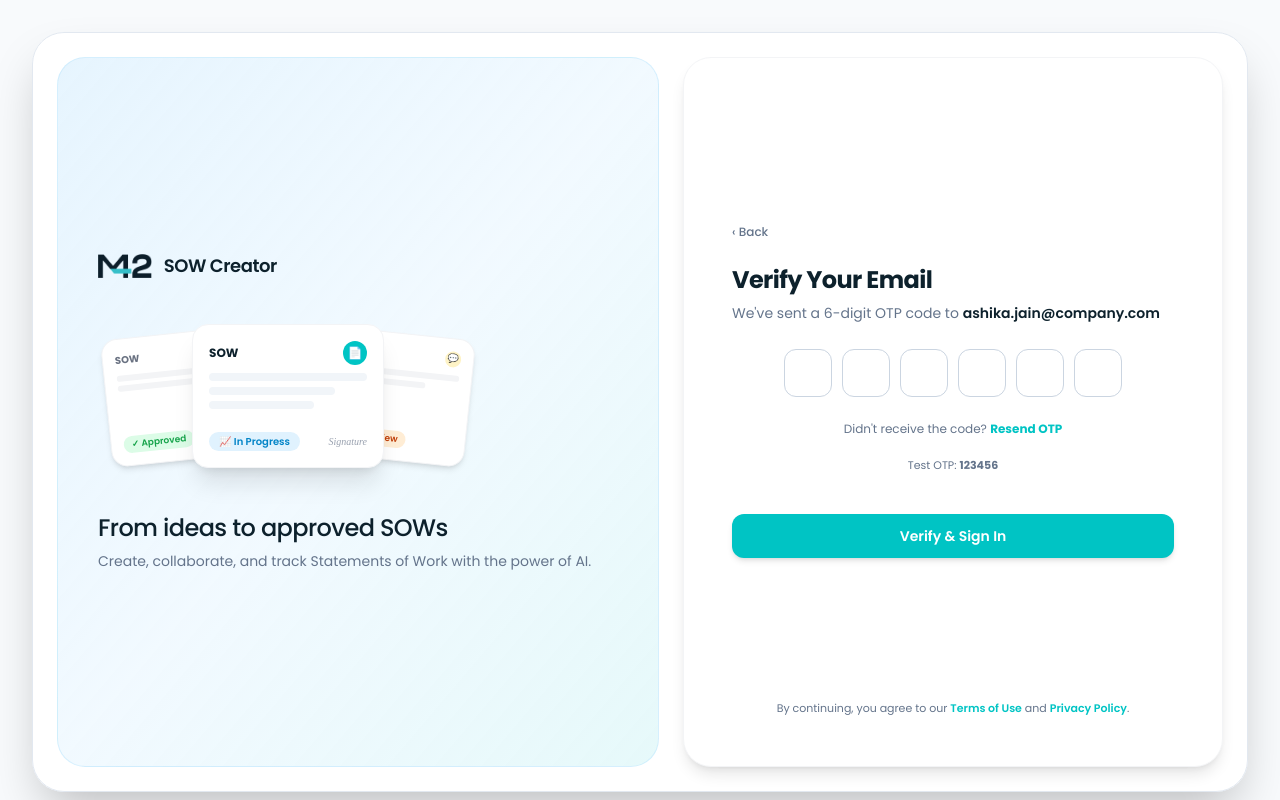
LoginScreen Organism › shows error when incorrect OTP code is entered
Type "9" into the field with test id "otp-input-0" at (808, 373), box [784, 349, 832, 397]
Type "9" into the field with test id "otp-input-1" at (866, 373), box [842, 349, 890, 397]
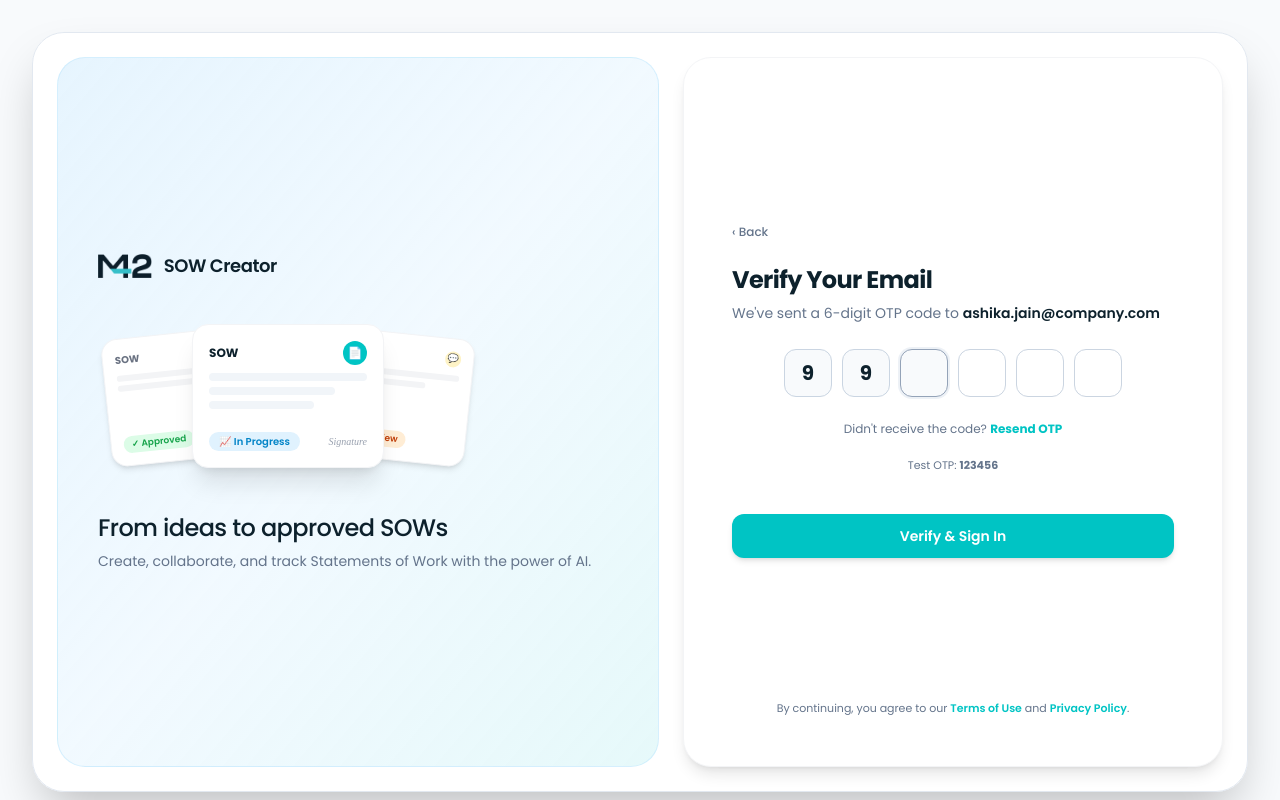
Type "9" into the field with test id "otp-input-2" at (924, 373), box [900, 349, 948, 397]
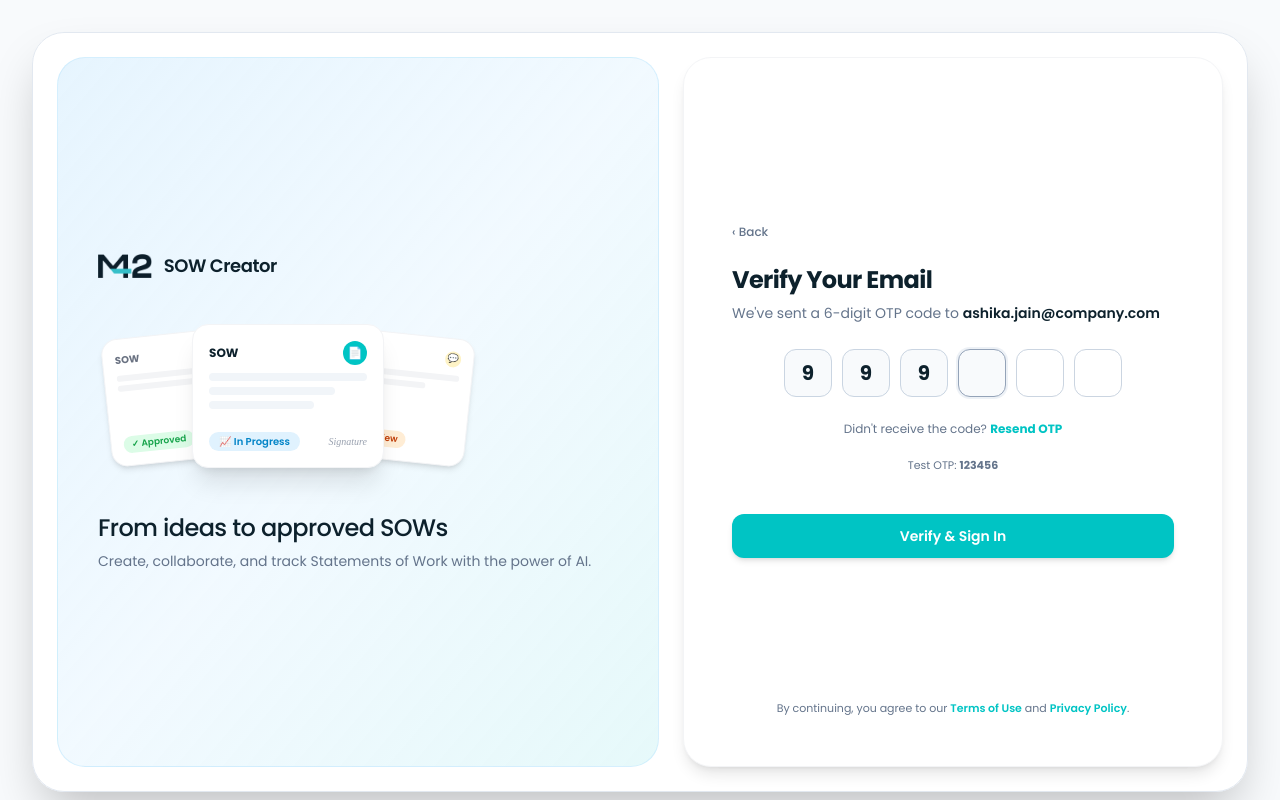
Type "9" into the field with test id "otp-input-3" at (982, 373), box [958, 349, 1006, 397]
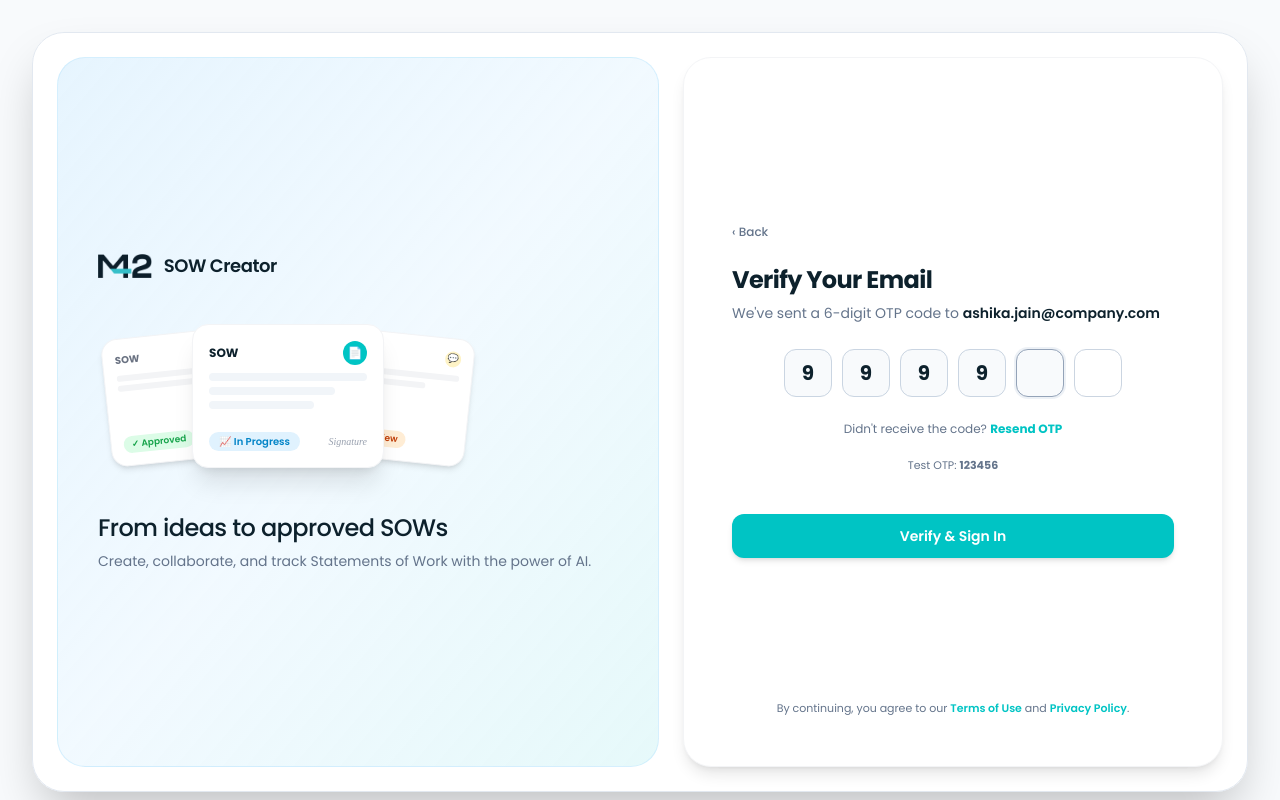
Type "9" into the field with test id "otp-input-4" at (1040, 373), box [1016, 349, 1064, 397]
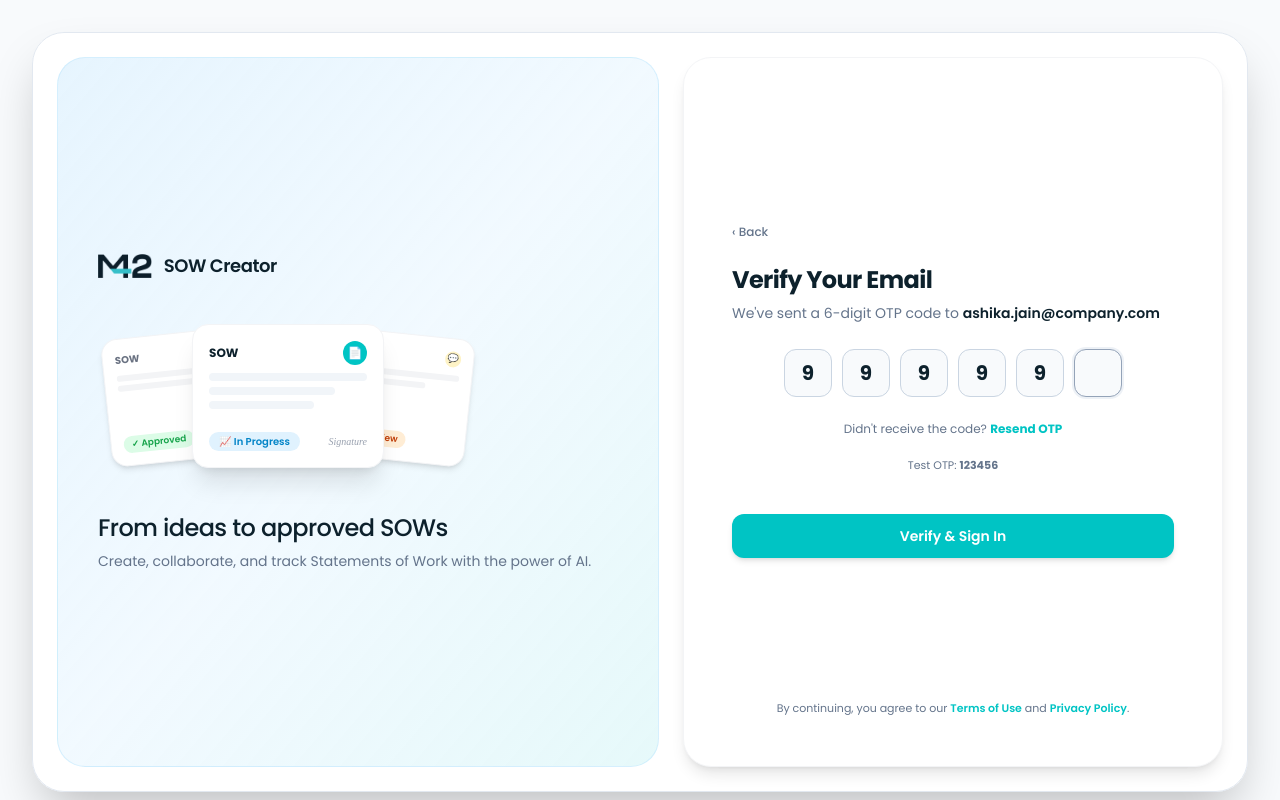
Type "9" into the field with test id "otp-input-5" at (1098, 373), box [1074, 349, 1122, 397]
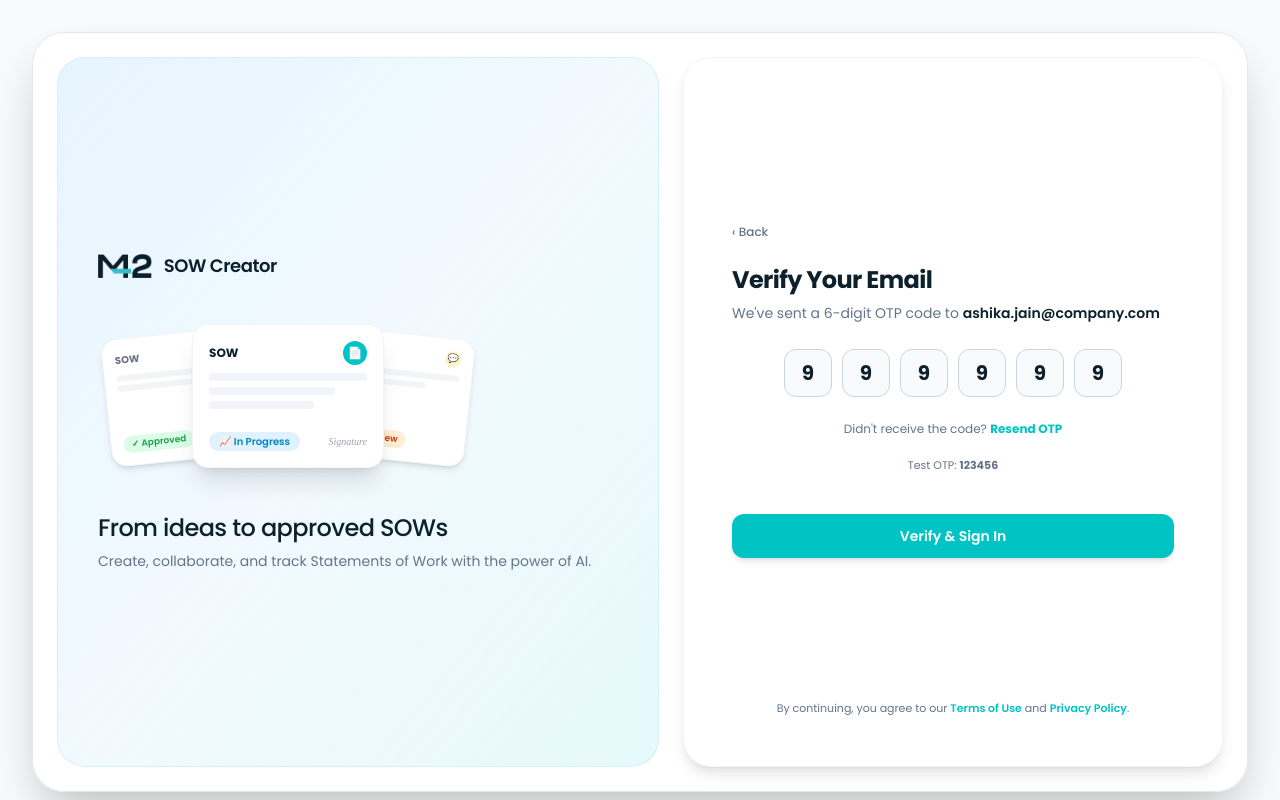
Click the button "Verify & Sign In" at (953, 536), box [732, 514, 1174, 558]
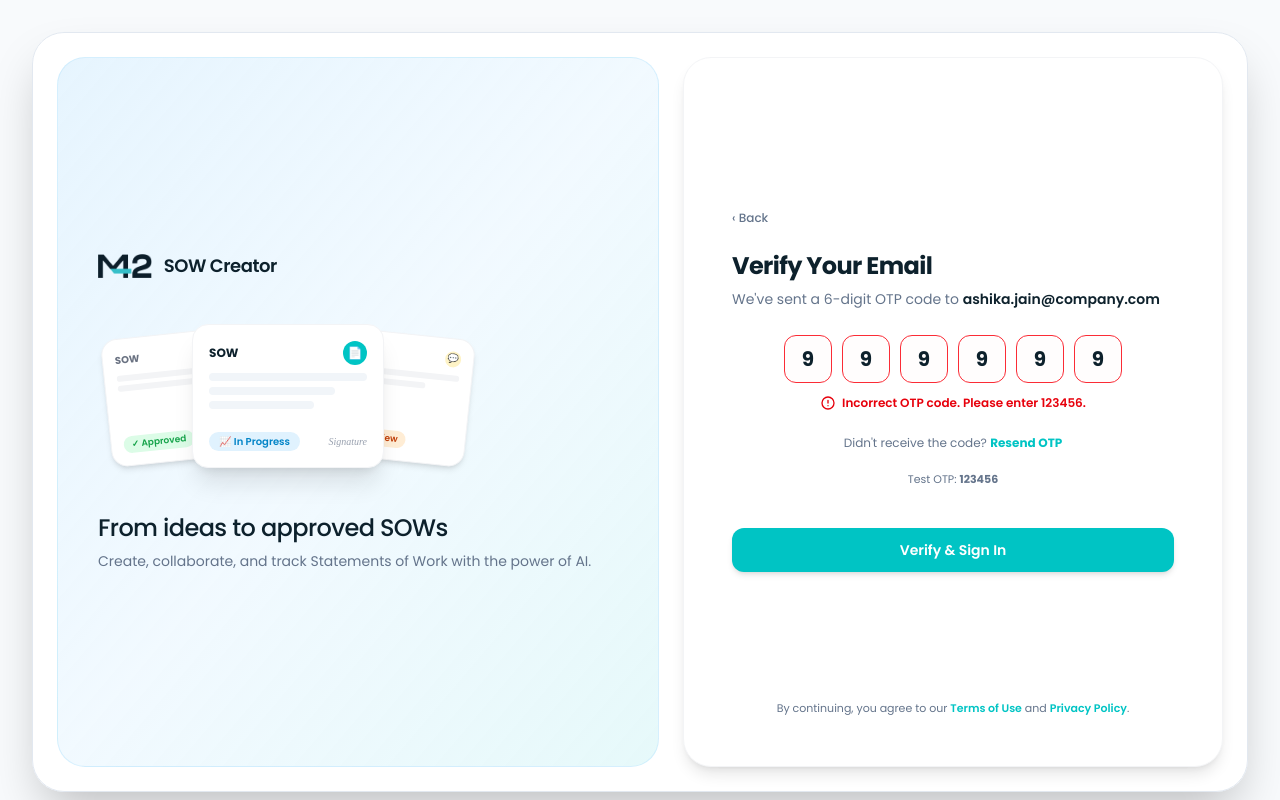
Expected: the text "Incorrect OTP code. Please enter 123456." is shown, [842, 395, 1086, 411]
